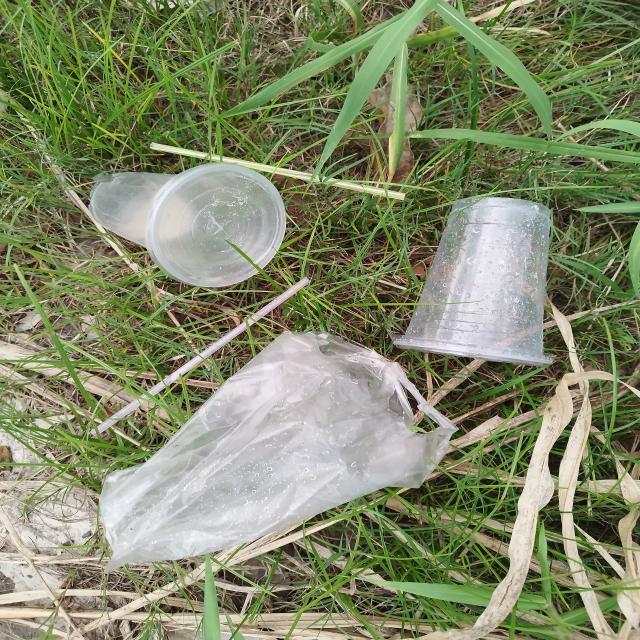bag: (100, 331, 459, 576)
drinking straw: (91, 277, 311, 436), (150, 142, 406, 201)
plastic glass: (396, 197, 556, 367), (89, 162, 287, 286)
